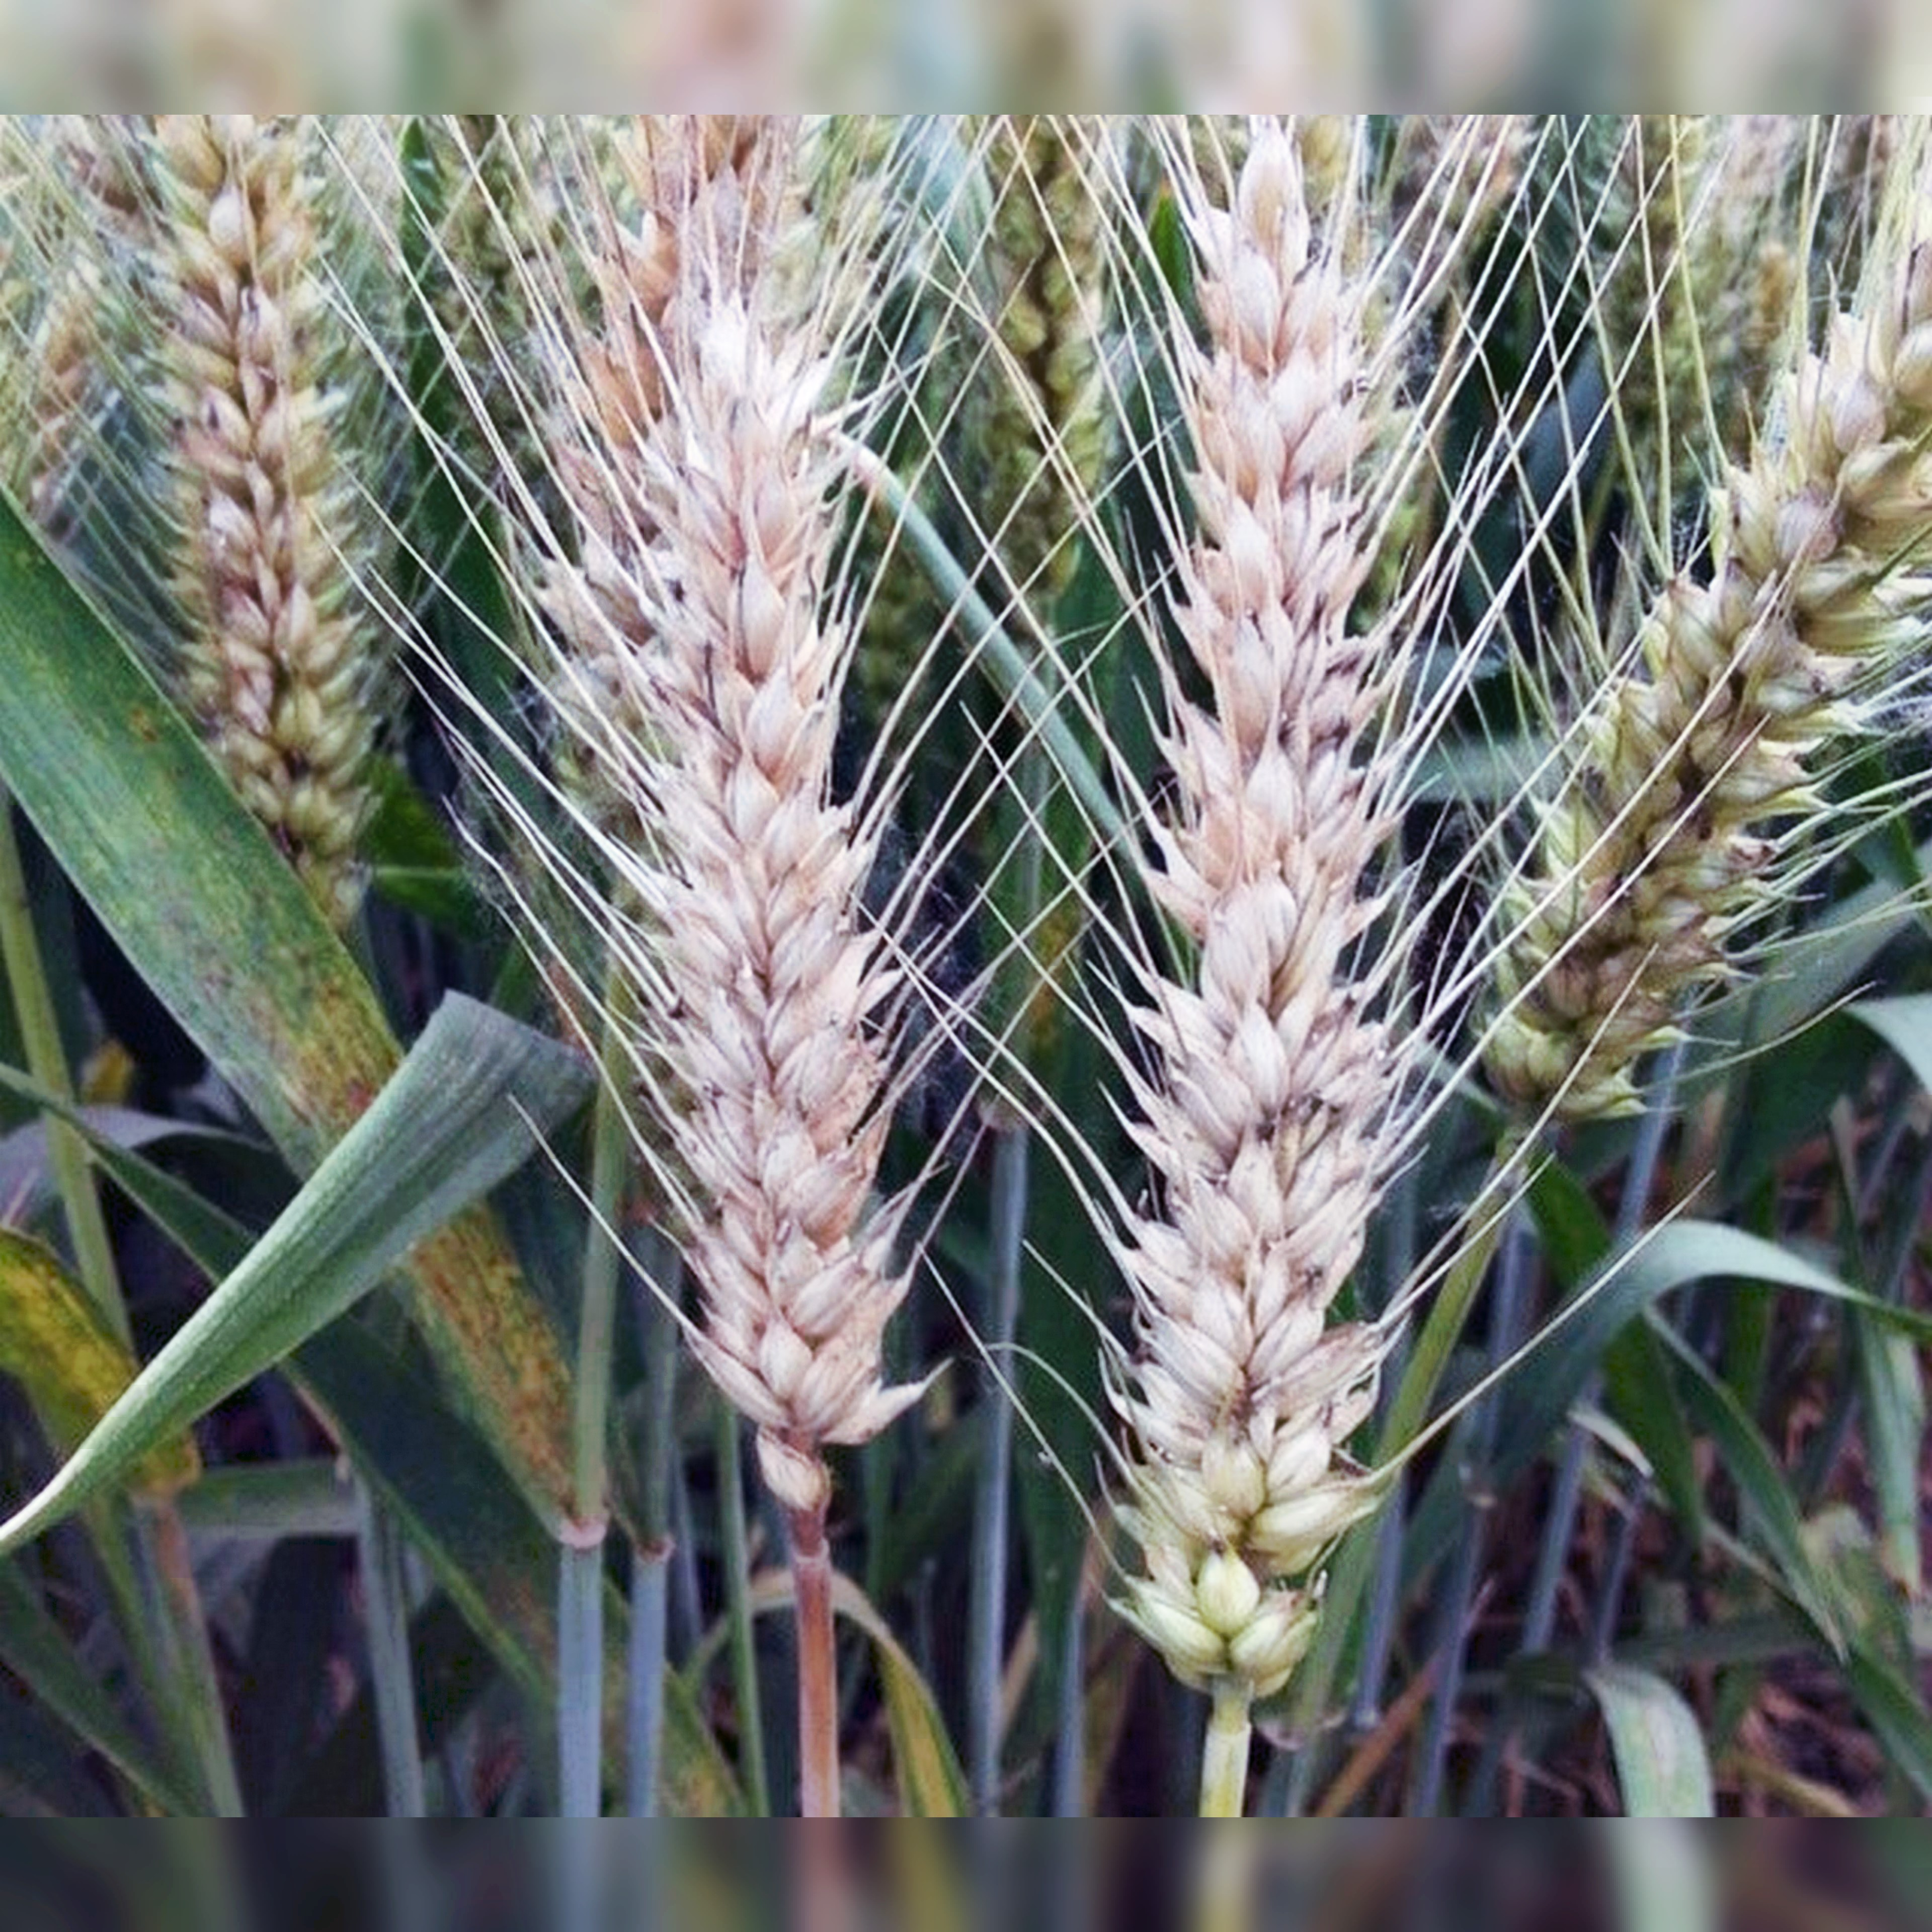Wheat scab: (1518, 255, 1932, 1134), (616, 285, 893, 1591), (1081, 847, 1396, 1764), (1111, 166, 1440, 807), (97, 131, 412, 764)
